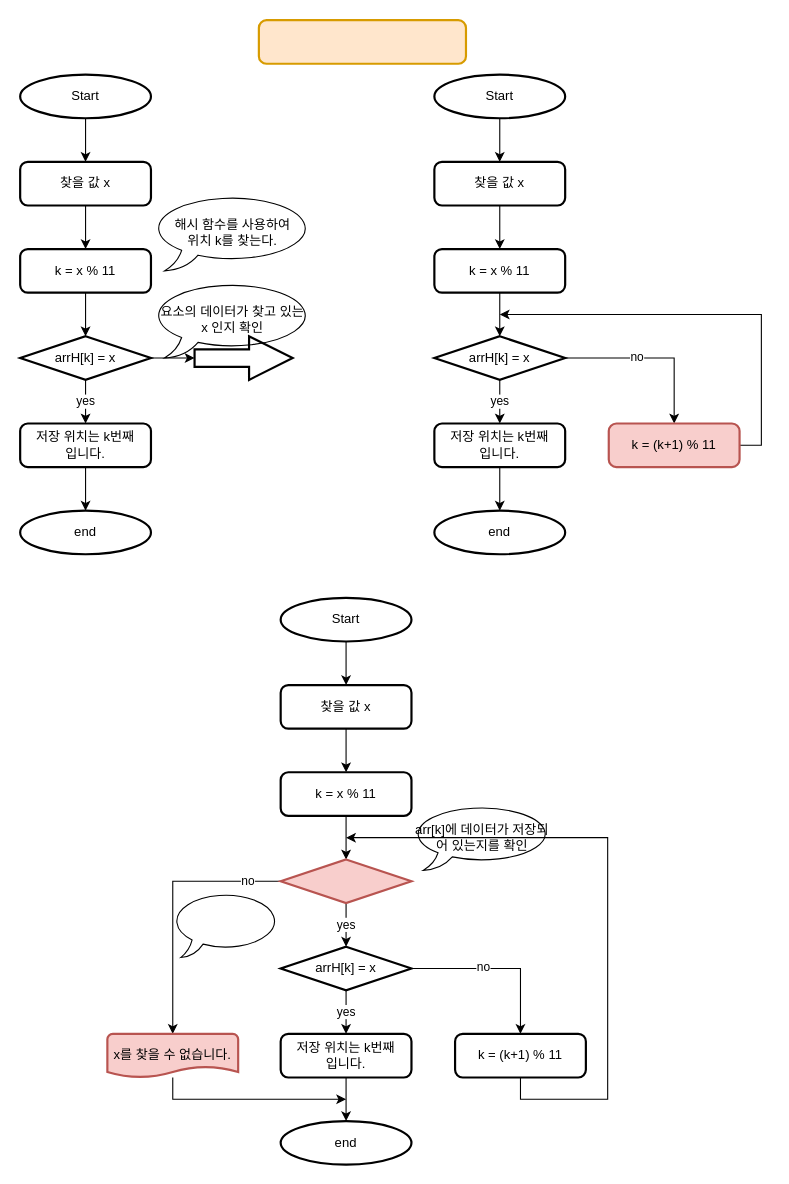
This 789x1184 diagram has some shape labels left out. The shapes that lost their labels are listed below. From the top down, each one's centre as x and y in pixels, then its label:
At (x=362, y=41): "Hash Search(검색)".
At (x=243, y=357): "찾는 값이 아닌 경우, 충돌로 인해 다른 위치에 있는 경우".
At (x=345, y=881): "arrH[k] != 0".
At (x=226, y=924): "값이 저장되어 있지 않은 경우".
